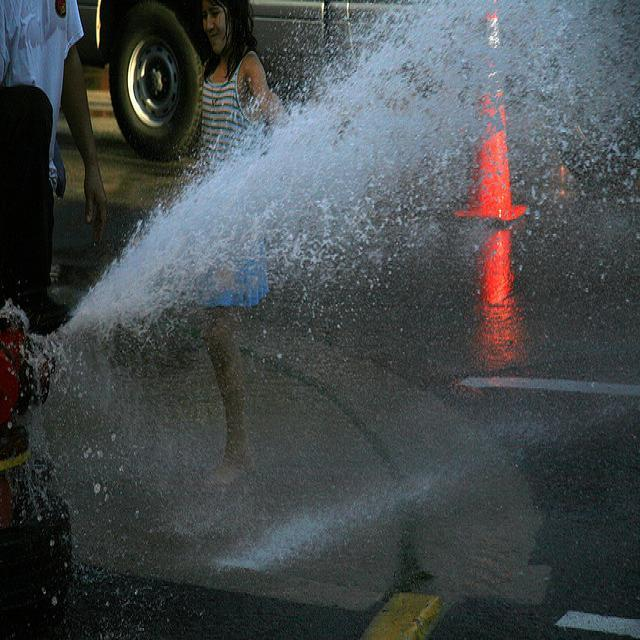fire_hydrant: (0, 303, 61, 566)
